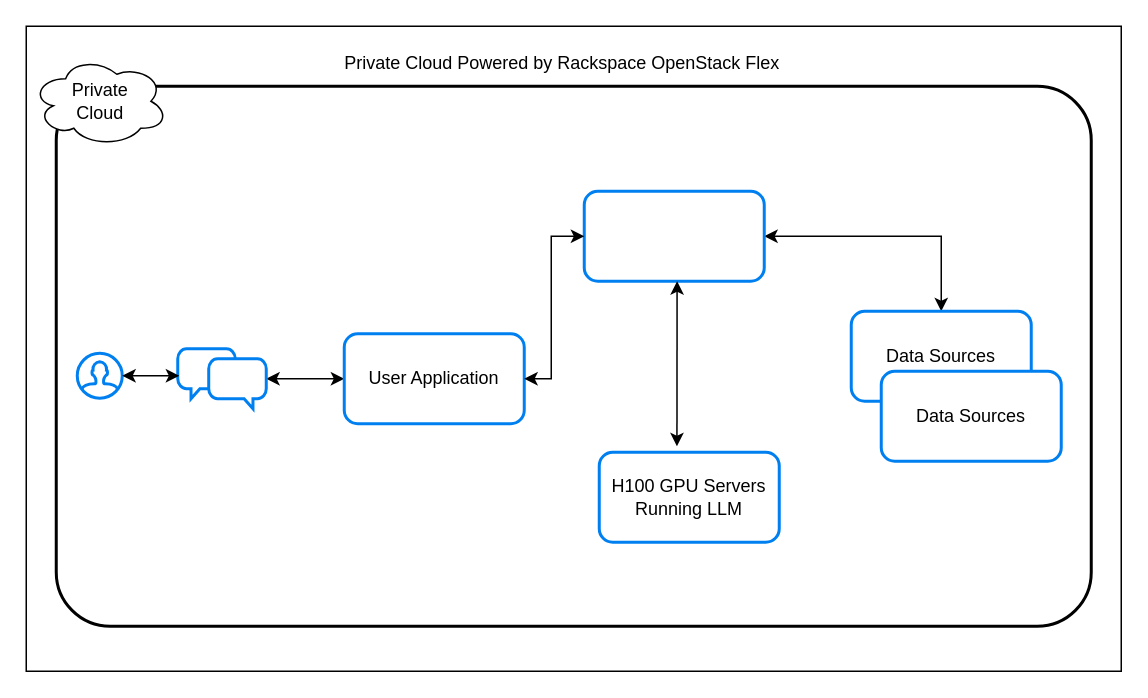
This 1148x698 diagram has some shape labels left out. Each missing label, with the centre of its shape:
AI Powered Chat: the point at 221,378
Chat Bot Running AI Agents in General Purpose VM: the point at 673,235
